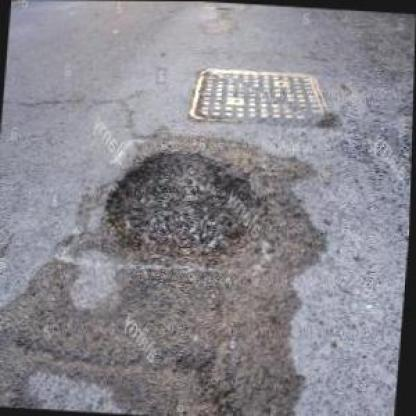pothole: (101, 143, 276, 266)
